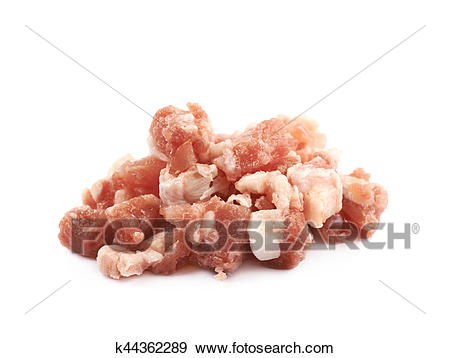bacon: (45, 97, 391, 282)
